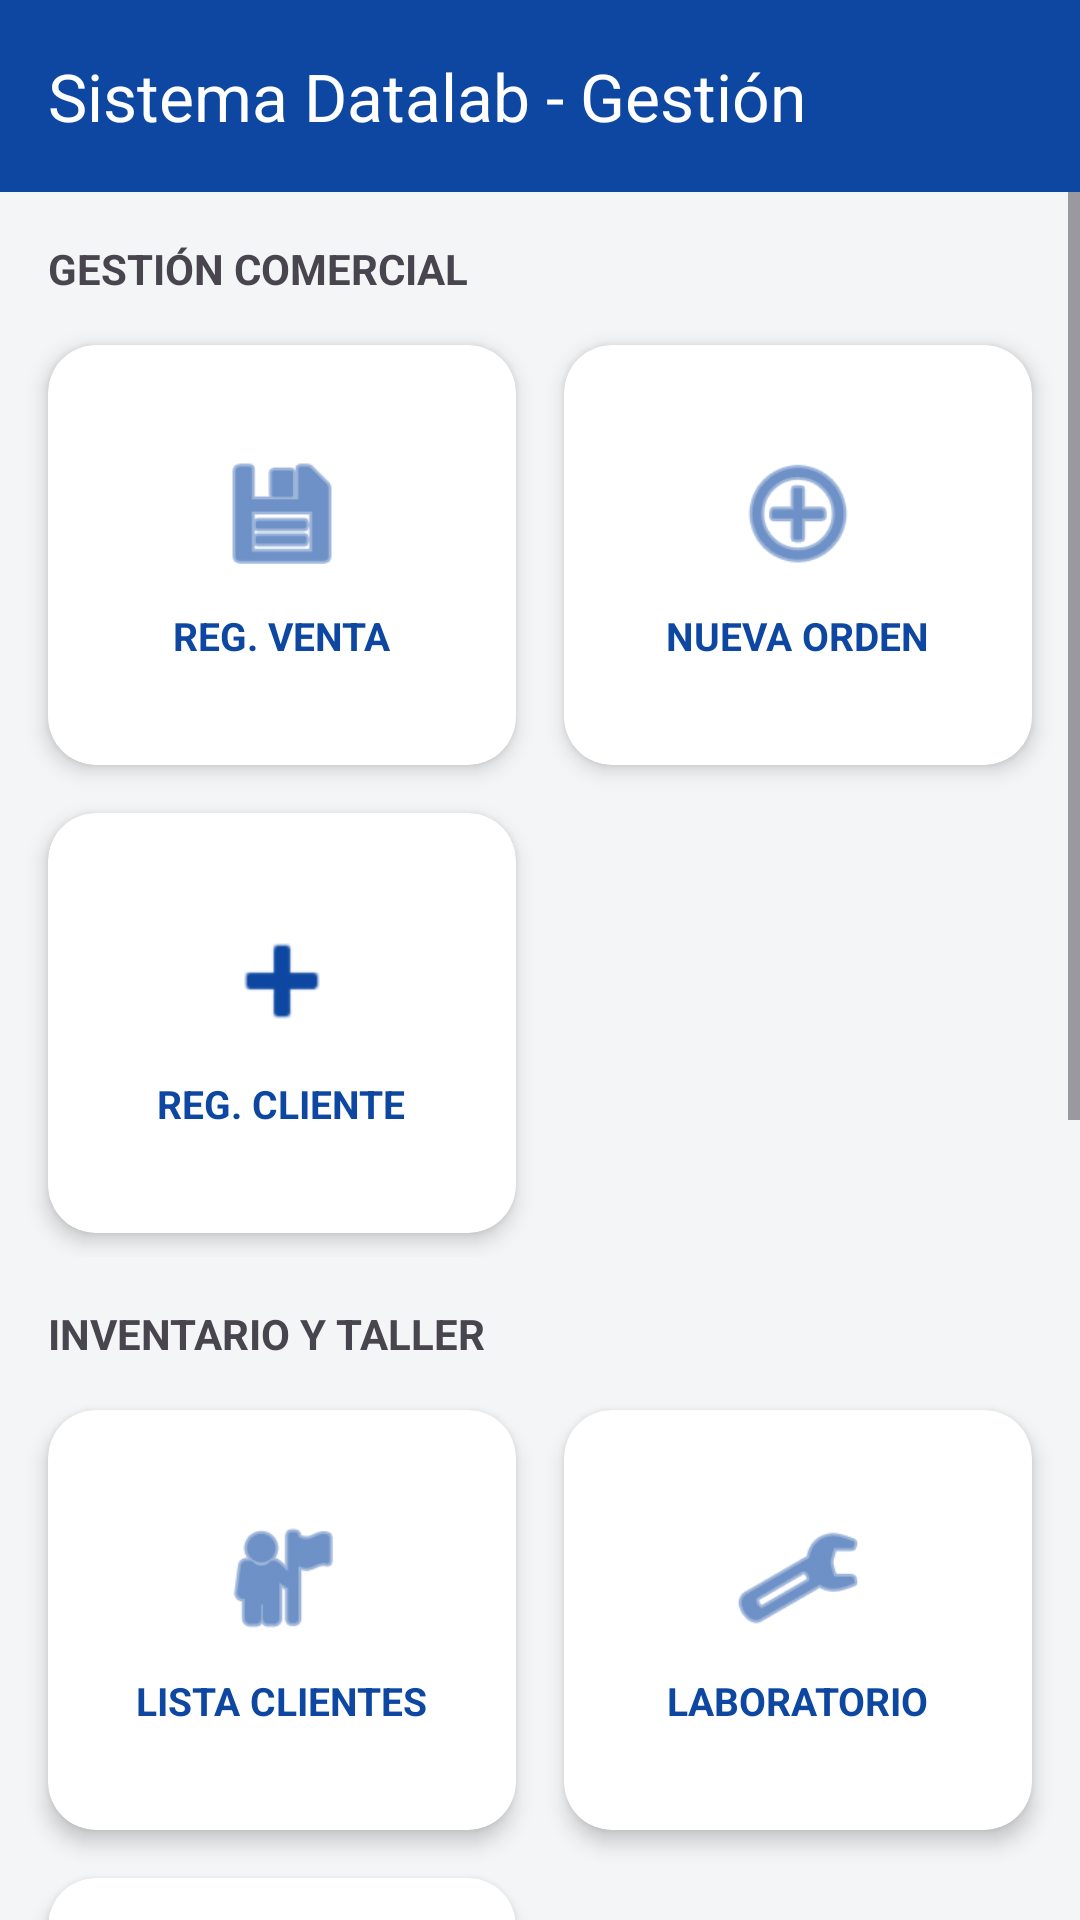

Icons on this 1080 × 1920 Android screen, each with the point to tap as point (x, y):
add: point (798, 514), point (282, 981)
manage: point (798, 1578)
myplaces: point (283, 1578)
save: point (282, 513)
